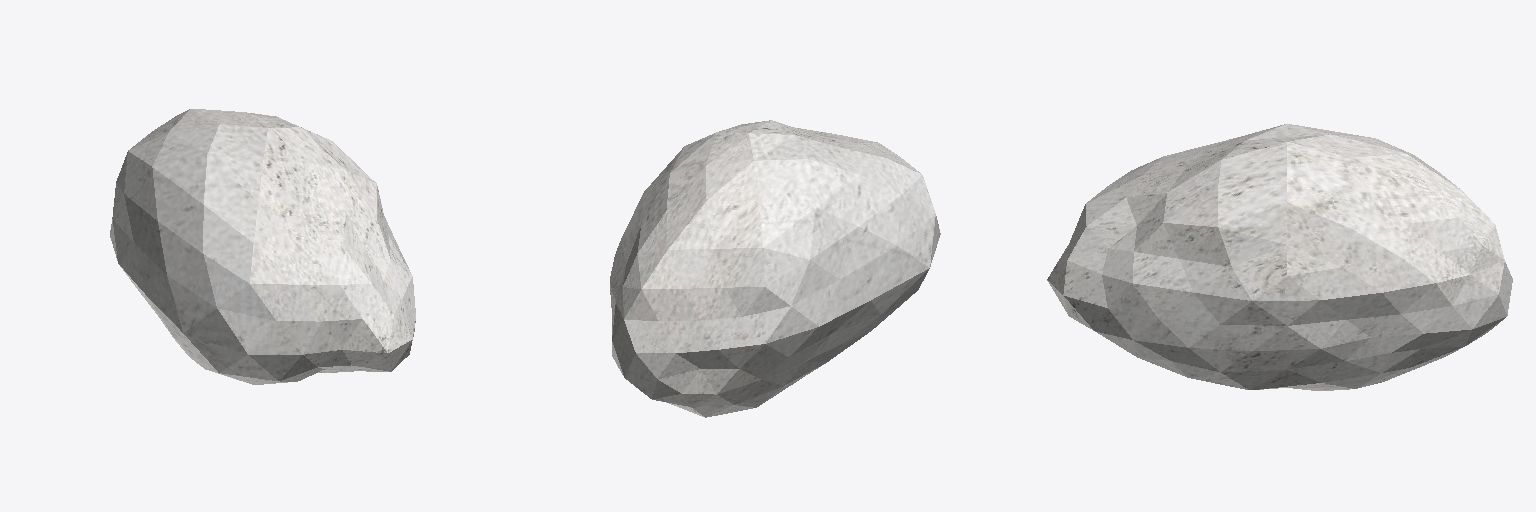
The picture shows the model from 3 angles: view 1: azimuth 30°, elevation 25°; view 2: azimuth 150°, elevation 25°; view 3: azimuth 270°, elevation 25°; orthographic projection.
Visible parts, largest first — view 1: Icosphere; view 2: Icosphere; view 3: Icosphere.
Part boxes in pixels (x1,y1,x2,y2): Icosphere: (110, 109, 415, 384); Icosphere: (610, 120, 940, 417); Icosphere: (1047, 124, 1512, 390).
Bounding box in the file's own units: 2.07 × 2.05 × 3.57.
1 materials, 1 textured.